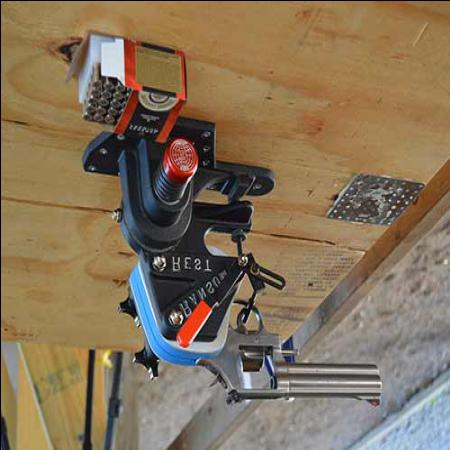Pistol: (190, 300, 382, 412)
